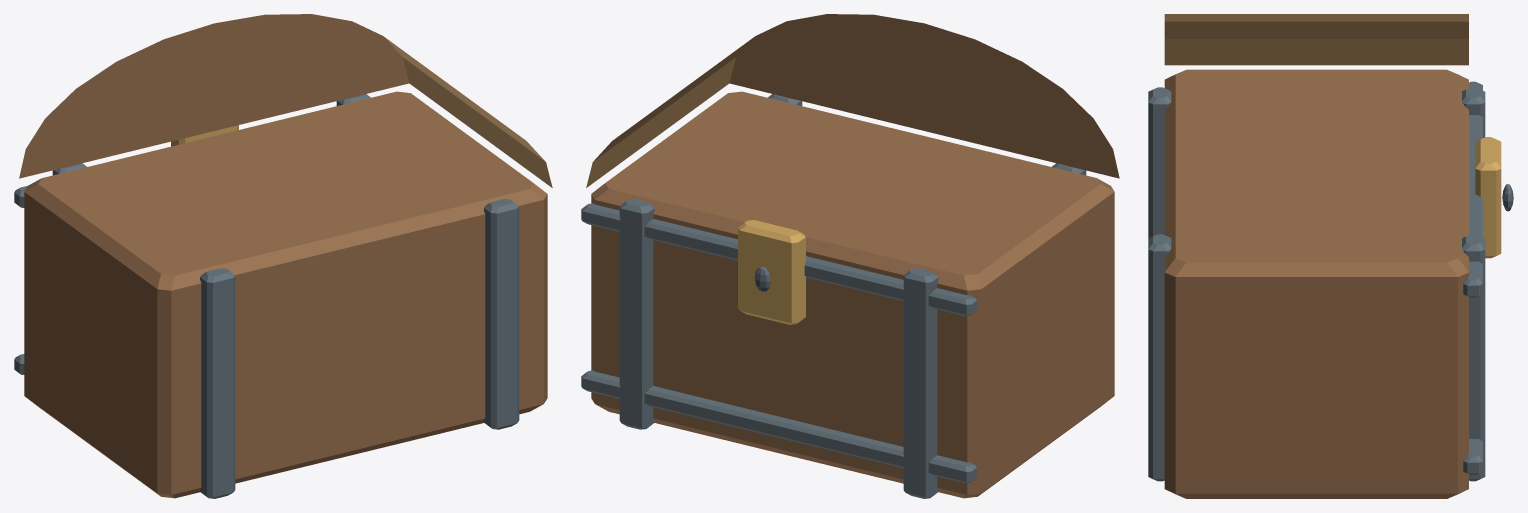
3 views of the same model, side by side, from view 1: azimuth 30°, elevation 25°; view 2: azimuth 150°, elevation 25°; view 3: azimuth 270°, elevation 25° (orthographic). The views are drawn at different scales.
Parts seen in each view (by area): view 1: body; view 2: body; view 3: body.
Boxes of the visible parts, box(x1,y1,x2,y2) form: body: box(14, 14, 552, 498); body: box(581, 14, 1119, 498); body: box(1148, 14, 1513, 498).
Bounding box in the file's own units: 1.1 × 0.89 × 0.8406.
